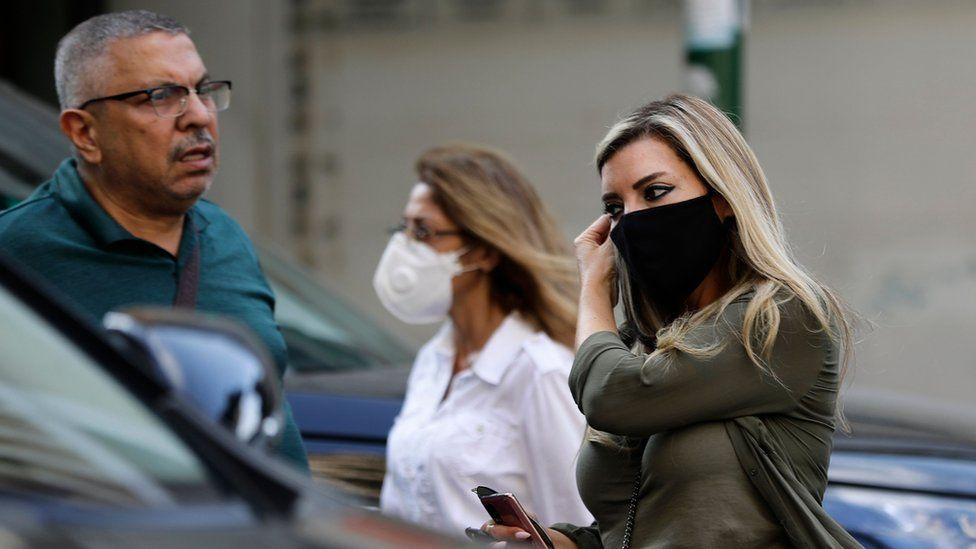with_mask: (603, 168, 699, 278), (395, 216, 465, 321)
without_mask: (118, 82, 220, 198)
